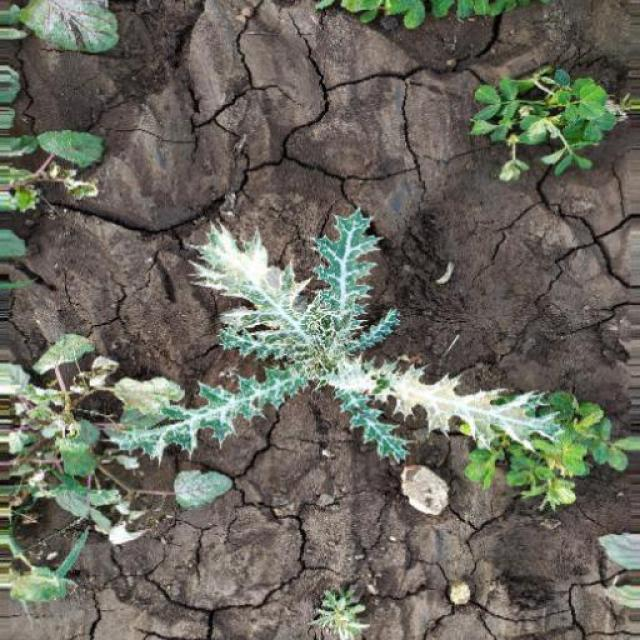weed: (124, 222, 625, 542), (1, 325, 135, 599), (1, 1, 114, 268), (448, 53, 622, 184)
